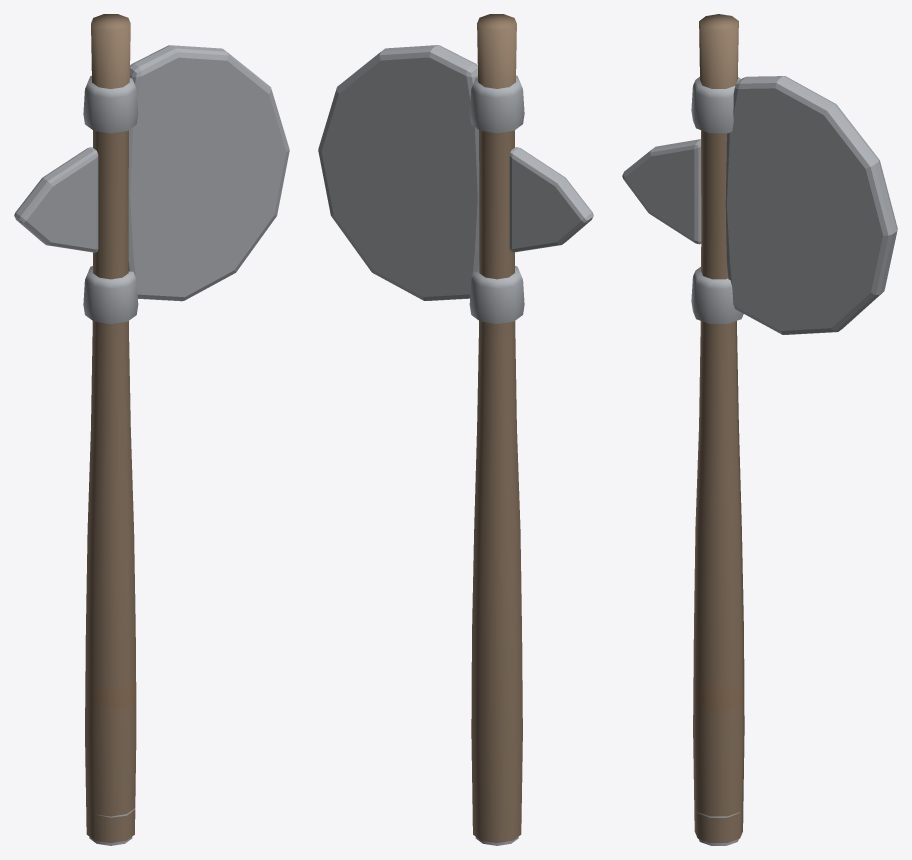
File: wpn_axe.glb
3 renders of one model, left to right at view 1: azimuth 30°, elevation 25°; view 2: azimuth 150°, elevation 25°; view 3: azimuth 330°, elevation 25°, orthographic.
Visible parts, largest first — view 1: wpn_axe; view 2: wpn_axe; view 3: wpn_axe.
Boxes of the visible parts, x1,y1,x2,y2 form: wpn_axe: [14, 14, 289, 845]; wpn_axe: [318, 14, 593, 845]; wpn_axe: [622, 14, 897, 845].
Size of the model in its own units: 0.3555 by 1.03 by 0.0626.
